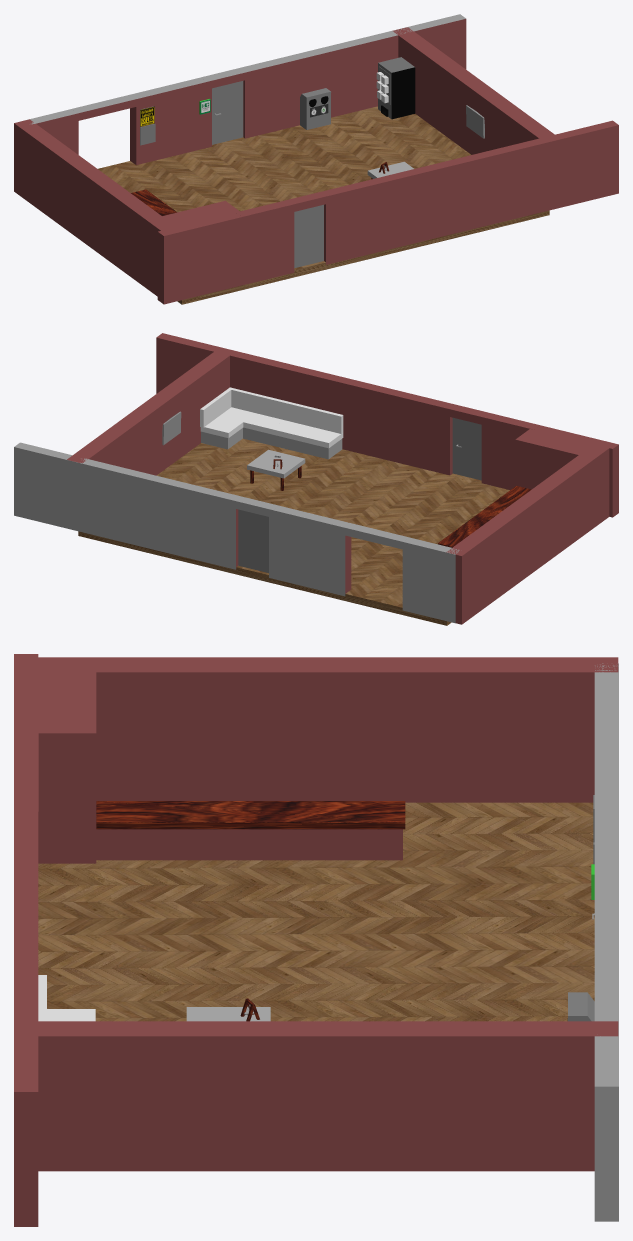
Rendered from stage3.fbx.
The picture shows the model from 3 angles, top to bottom: view 1: azimuth 30°, elevation 25°; view 2: azimuth 150°, elevation 25°; view 3: azimuth 270°, elevation 25°; orthographic projection. The views are drawn at different scales.
Visible parts, largest first — view 1: pasted__pasted__pasted__pCube2 (×3), pCube1, pasted__pCube2, pasted__pasted__pasted__pasted__pCube2 (×2), pCube2, pasted__pasted__pCube2, pasted__pasted__pasted__pasted__pasted__pCube2 (×2), pCube3, polySurface11, pCube50, pCube48, pasted__pasted__pasted__pasted__pasted__pCube3 (+3 smaller); view 2: pasted__pasted__pasted__pCube2 (×3), pCube1, pasted__pCube2, pCube2, pasted__pasted__pCube2, pasted__pasted__pasted__pasted__pCube2 (×2), pasted__pasted__pasted__pasted__pasted__pCube2 (×2), pCube15, pCube3, pCube50, pCube14, pasted__pasted__pasted__pasted__pasted__pasted__pasted__pCub (+7 smaller); view 3: pCube1, pCube2, pasted__pCube2, pasted__pasted__pasted__pCube2 (×3), pasted__pasted__pasted__pasted__pasted__pCube2 (×2), pasted__pasted__pasted__pasted__pasted__pasted__pCube2, pasted__pasted__pasted__pasted__pasted__pasted__pasted__pCub, pasted__pasted__pasted__pasted__pCube2 (×2), pasted__pasted__pasted__pasted__pasted__pCube3, pasted__pasted__pCube2, pCube63, pCube48.
Part boxes in pixels (x1=…): pasted__pasted__pasted__pCube2 (×3): x1=27, y1=14, x2=618, y2=264; pCube1: x1=98, y1=106, x2=549, y2=304; pasted__pCube2: x1=14, y1=119, x2=181, y2=296; pasted__pasted__pasted__pasted__pCube2 (×2): x1=72, y1=94, x2=294, y2=304; pCube2: x1=392, y1=27, x2=560, y2=154; pasted__pasted__pCube2: x1=130, y1=77, x2=211, y2=165; pasted__pasted__pasted__pasted__pasted__pCube2 (×2): x1=159, y1=63, x2=266, y2=228; pCube3: x1=212, y1=81, x2=243, y2=144; polySurface11: x1=378, y1=57, x2=415, y2=119; pCube50: x1=294, y1=204, x2=323, y2=268; pCube48: x1=300, y1=88, x2=331, y2=129; pasted__pasted__pasted__pasted__pasted__pCube3: x1=236, y1=191, x2=327, y2=216; pasted__pasted__pasted__pCube2 (×3): x1=14, y1=333, x2=459, y2=623; pCube1: x1=78, y1=438, x2=509, y2=625; pasted__pCube2: x1=446, y1=443, x2=609, y2=624; pCube2: x1=67, y1=347, x2=235, y2=475; pasted__pasted__pCube2: x1=269, y1=506, x2=351, y2=596; pasted__pasted__pasted__pasted__pCube2 (×2): x1=344, y1=425, x2=618, y2=549; pasted__pasted__pasted__pasted__pasted__pCube2 (×2): x1=214, y1=429, x2=597, y2=516; pCube15: x1=200, y1=407, x2=343, y2=448; pCube3: x1=238, y1=509, x2=268, y2=572; pCube50: x1=452, y1=417, x2=481, y2=480; pCube14: x1=201, y1=427, x2=342, y2=459; pasted__pasted__pasted__pasted__pasted__pasted__pasted__pCub: x1=438, y1=486, x2=531, y2=547; pCube1: x1=38, y1=802, x2=594, y2=1021; pCube2: x1=14, y1=1021, x2=618, y2=1171; pasted__pCube2: x1=14, y1=657, x2=618, y2=802; pasted__pasted__pasted__pCube2 (×3): x1=14, y1=663, x2=618, y2=1226; pasted__pasted__pasted__pasted__pasted__pCube2 (×2): x1=35, y1=669, x2=618, y2=894; pasted__pasted__pasted__pasted__pasted__pasted__pCube2: x1=96, y1=829, x2=402, y2=860; pasted__pasted__pasted__pasted__pasted__pasted__pasted__pCub: x1=96, y1=801, x2=405, y2=829; pasted__pasted__pasted__pasted__pCube2 (×2): x1=14, y1=654, x2=618, y2=769; pasted__pasted__pasted__pasted__pasted__pCube3: x1=14, y1=729, x2=38, y2=826; pasted__pasted__pCube2: x1=594, y1=770, x2=618, y2=837; pCube63: x1=186, y1=1007, x2=270, y2=1021; pCube48: x1=568, y1=992, x2=594, y2=1021.
Bounding box in the file's own units: 12.36 × 1.9 × 7.21.
26 materials, 5 textured.
